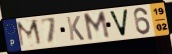6: (133, 7, 152, 36)
7: (39, 17, 58, 46)
K: (65, 15, 86, 42)
M: (82, 10, 112, 43), (14, 18, 44, 49)
V: (108, 8, 130, 38)
